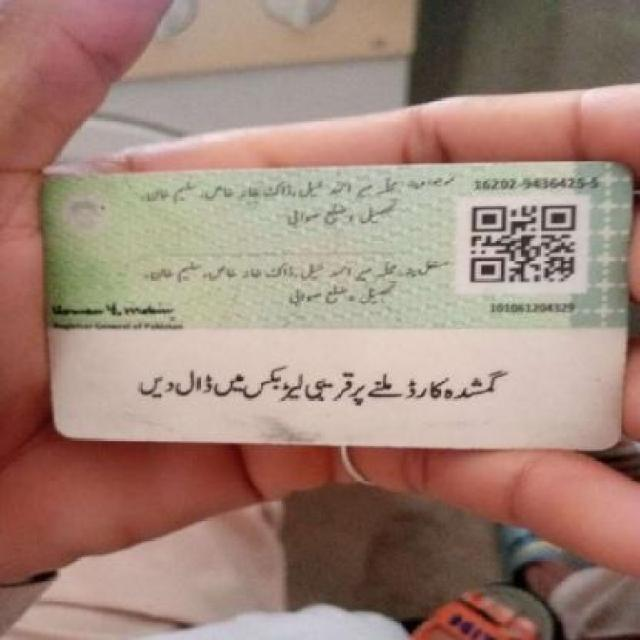Back: (20, 160, 634, 455)
